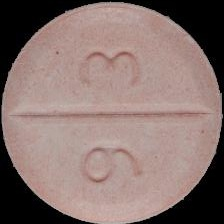54868-3327: (0, 0, 224, 224)
